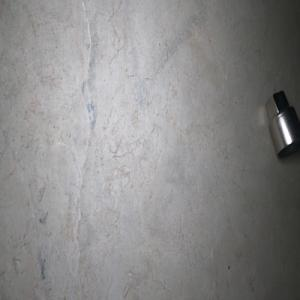MetalPart: (264, 89, 300, 159)
